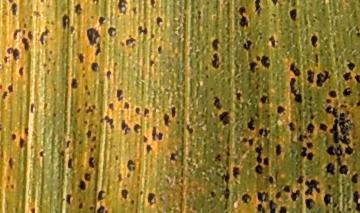tarspot: (325, 144, 349, 176), (288, 76, 304, 104), (303, 179, 322, 198), (338, 119, 351, 144), (85, 27, 101, 47), (315, 69, 331, 89), (329, 118, 340, 144), (237, 6, 249, 28), (5, 46, 21, 62), (151, 125, 164, 143), (218, 111, 232, 127), (103, 114, 117, 130), (39, 25, 50, 45), (288, 61, 302, 76), (60, 13, 72, 30), (254, 143, 263, 165), (146, 191, 159, 206), (210, 53, 221, 70), (120, 118, 131, 135), (352, 190, 360, 213), (117, 1, 129, 16), (221, 169, 231, 186), (305, 68, 315, 85), (21, 36, 31, 53), (256, 190, 269, 203), (324, 162, 336, 176), (211, 37, 221, 53), (288, 7, 298, 23), (168, 150, 180, 163), (29, 8, 43, 19), (309, 33, 319, 48), (212, 95, 222, 110), (162, 112, 172, 127), (115, 87, 125, 102), (136, 24, 148, 36), (304, 197, 316, 209), (126, 158, 137, 171), (290, 189, 301, 202), (96, 188, 107, 201), (73, 2, 83, 16), (260, 55, 270, 69), (268, 199, 278, 213), (231, 165, 241, 179), (9, 2, 18, 17), (94, 42, 103, 57), (253, 1, 262, 16), (268, 34, 277, 49), (107, 26, 118, 38), (343, 144, 354, 156), (76, 51, 86, 64), (248, 61, 258, 74), (119, 187, 129, 200), (246, 117, 255, 131), (306, 122, 315, 136), (241, 193, 252, 204), (89, 61, 100, 72), (258, 95, 269, 106), (242, 39, 252, 51), (276, 104, 286, 116), (125, 36, 137, 46), (12, 28, 22, 40), (70, 77, 79, 90), (323, 193, 332, 206), (274, 143, 283, 156), (77, 178, 86, 191), (156, 15, 164, 29), (223, 186, 231, 200), (17, 135, 25, 149), (254, 164, 264, 175), (346, 61, 356, 72), (342, 87, 352, 98), (350, 172, 359, 184), (299, 146, 308, 158), (87, 156, 96, 168), (65, 193, 73, 206), (66, 157, 74, 170), (7, 82, 15, 95), (256, 203, 266, 213), (233, 91, 243, 101), (327, 89, 337, 99), (342, 71, 352, 81), (318, 122, 328, 132), (84, 105, 94, 115), (97, 16, 106, 27), (185, 124, 194, 135), (133, 123, 142, 134), (214, 153, 223, 164), (96, 205, 108, 213), (28, 102, 36, 114), (196, 9, 203, 22), (295, 175, 304, 185), (18, 66, 26, 77), (143, 107, 151, 118), (104, 70, 112, 81), (331, 107, 339, 118), (338, 111, 346, 122), (170, 106, 177, 118), (122, 100, 131, 109), (148, 59, 157, 68), (2, 55, 11, 64), (278, 205, 288, 213), (282, 184, 290, 194), (263, 127, 271, 137), (83, 171, 91, 181), (64, 139, 72, 149), (36, 150, 46, 158), (59, 148, 67, 158), (8, 156, 14, 169), (145, 143, 152, 154), (288, 121, 295, 132), (27, 29, 34, 40), (116, 171, 123, 182), (68, 25, 76, 34), (262, 157, 270, 166), (141, 134, 149, 143), (305, 141, 314, 149), (324, 105, 332, 114), (224, 150, 233, 158), (1, 91, 9, 100), (107, 101, 114, 111), (247, 137, 254, 147), (306, 151, 313, 161), (257, 127, 264, 137), (85, 129, 92, 139), (253, 111, 261, 119), (28, 143, 36, 151), (131, 5, 138, 14), (254, 54, 261, 63), (134, 106, 141, 115), (274, 191, 281, 200), (21, 22, 30, 29), (23, 126, 30, 135), (42, 101, 49, 110), (9, 182, 16, 191), (354, 74, 360, 84), (338, 103, 348, 109), (314, 53, 320, 63), (149, 1, 156, 9), (209, 190, 216, 198), (324, 98, 332, 105), (308, 114, 316, 121), (10, 133, 17, 141), (5, 174, 12, 182), (88, 14, 95, 22), (297, 134, 304, 142), (302, 133, 309, 141), (157, 44, 162, 55), (267, 175, 273, 184), (83, 83, 89, 92), (296, 124, 302, 133), (113, 154, 120, 161), (203, 65, 210, 72), (81, 118, 88, 125), (331, 201, 337, 209), (354, 99, 360, 107), (326, 183, 332, 191), (265, 113, 273, 119), (270, 12, 278, 18), (89, 146, 95, 154), (75, 107, 81, 115), (98, 116, 104, 124), (77, 138, 83, 146), (46, 68, 52, 76), (19, 17, 27, 23), (307, 95, 313, 103), (254, 83, 260, 91), (91, 1, 100, 6), (129, 199, 136, 205), (149, 32, 155, 39), (241, 137, 247, 144), (354, 31, 360, 38), (88, 205, 94, 212), (30, 206, 36, 213), (91, 143, 97, 150), (204, 73, 210, 80), (80, 72, 86, 79), (270, 1, 280, 5), (78, 201, 83, 209), (92, 135, 97, 143), (81, 64, 86, 72), (113, 61, 119, 67), (52, 112, 58, 118), (139, 189, 144, 196), (4, 182, 9, 189), (48, 48, 53, 55), (42, 62, 47, 69), (80, 162, 85, 169), (125, 171, 130, 178), (22, 29, 26, 36), (7, 1, 14, 4), (325, 209, 330, 213), (1, 122, 3, 132), (39, 1, 44, 4), (337, 210, 342, 213), (1, 83, 3, 90)
